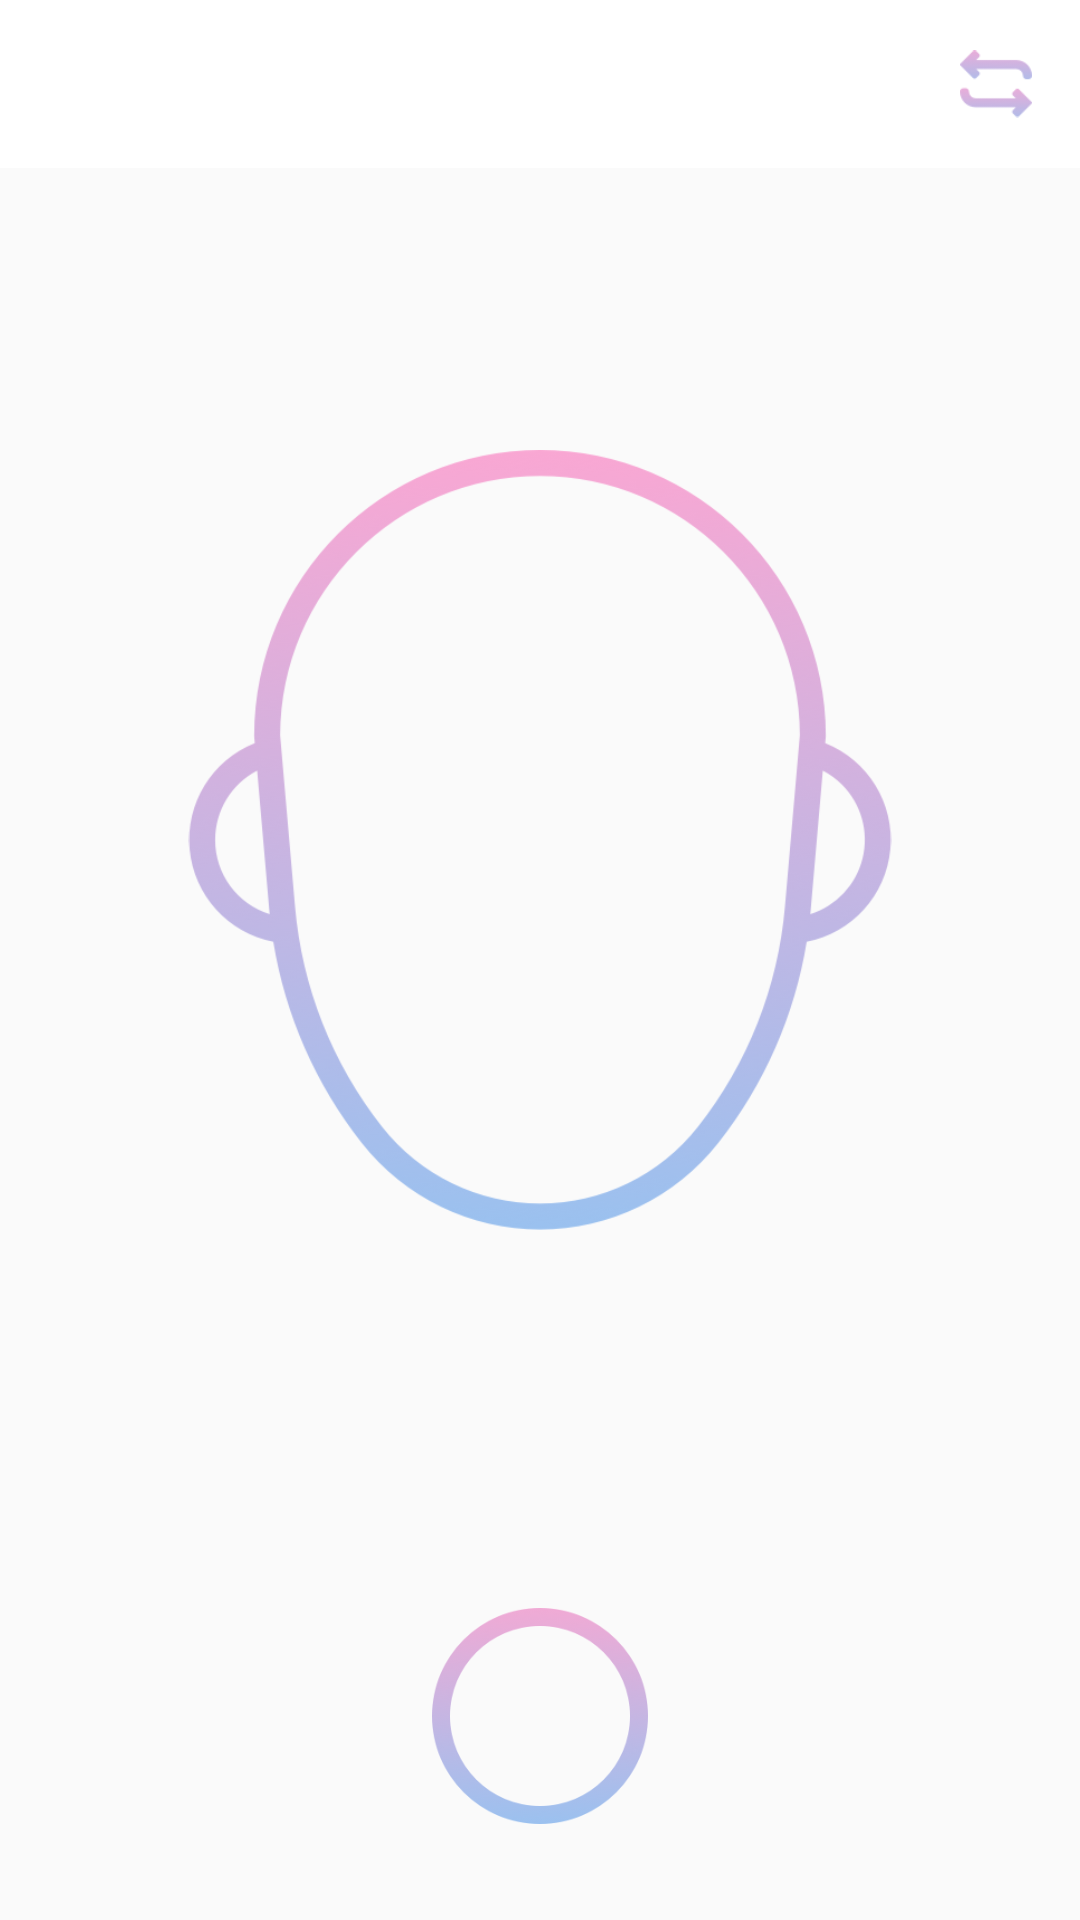

Point at icon controls on the screen. Image size 1080*1920, points as [x,y].
switch camera: [996,84]
take photo: [540,1716]
